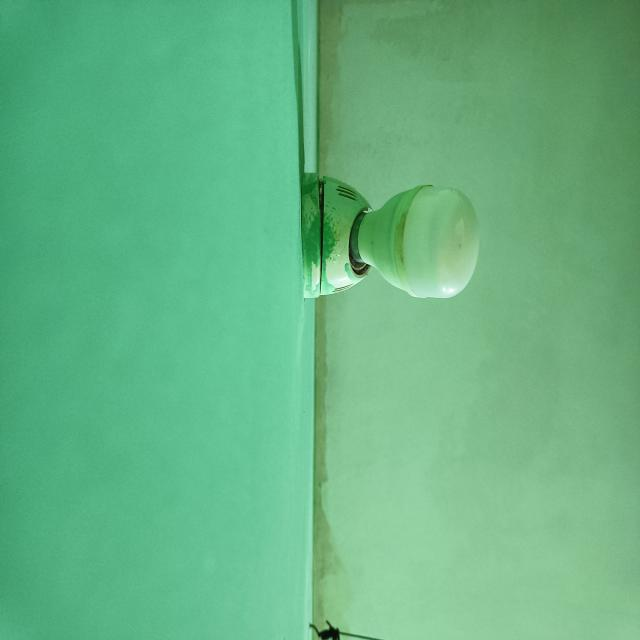bulb_off: (349, 175, 486, 312)
